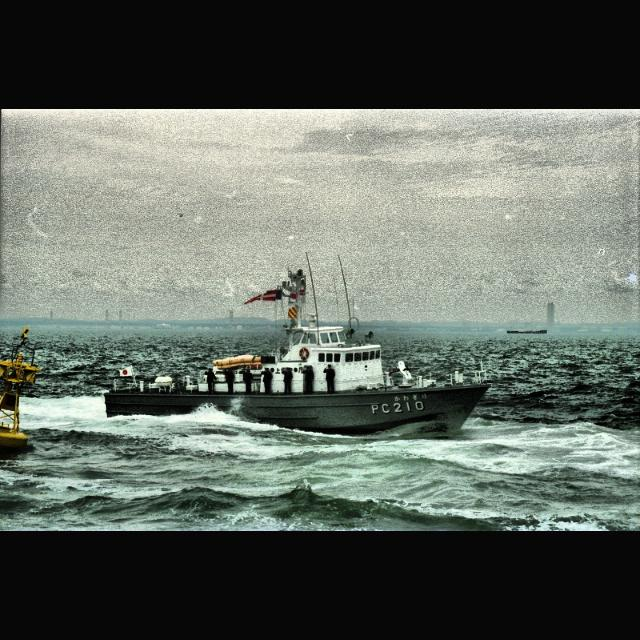buoy: (1, 322, 44, 458)
patrol_vessel: (101, 259, 496, 441)
